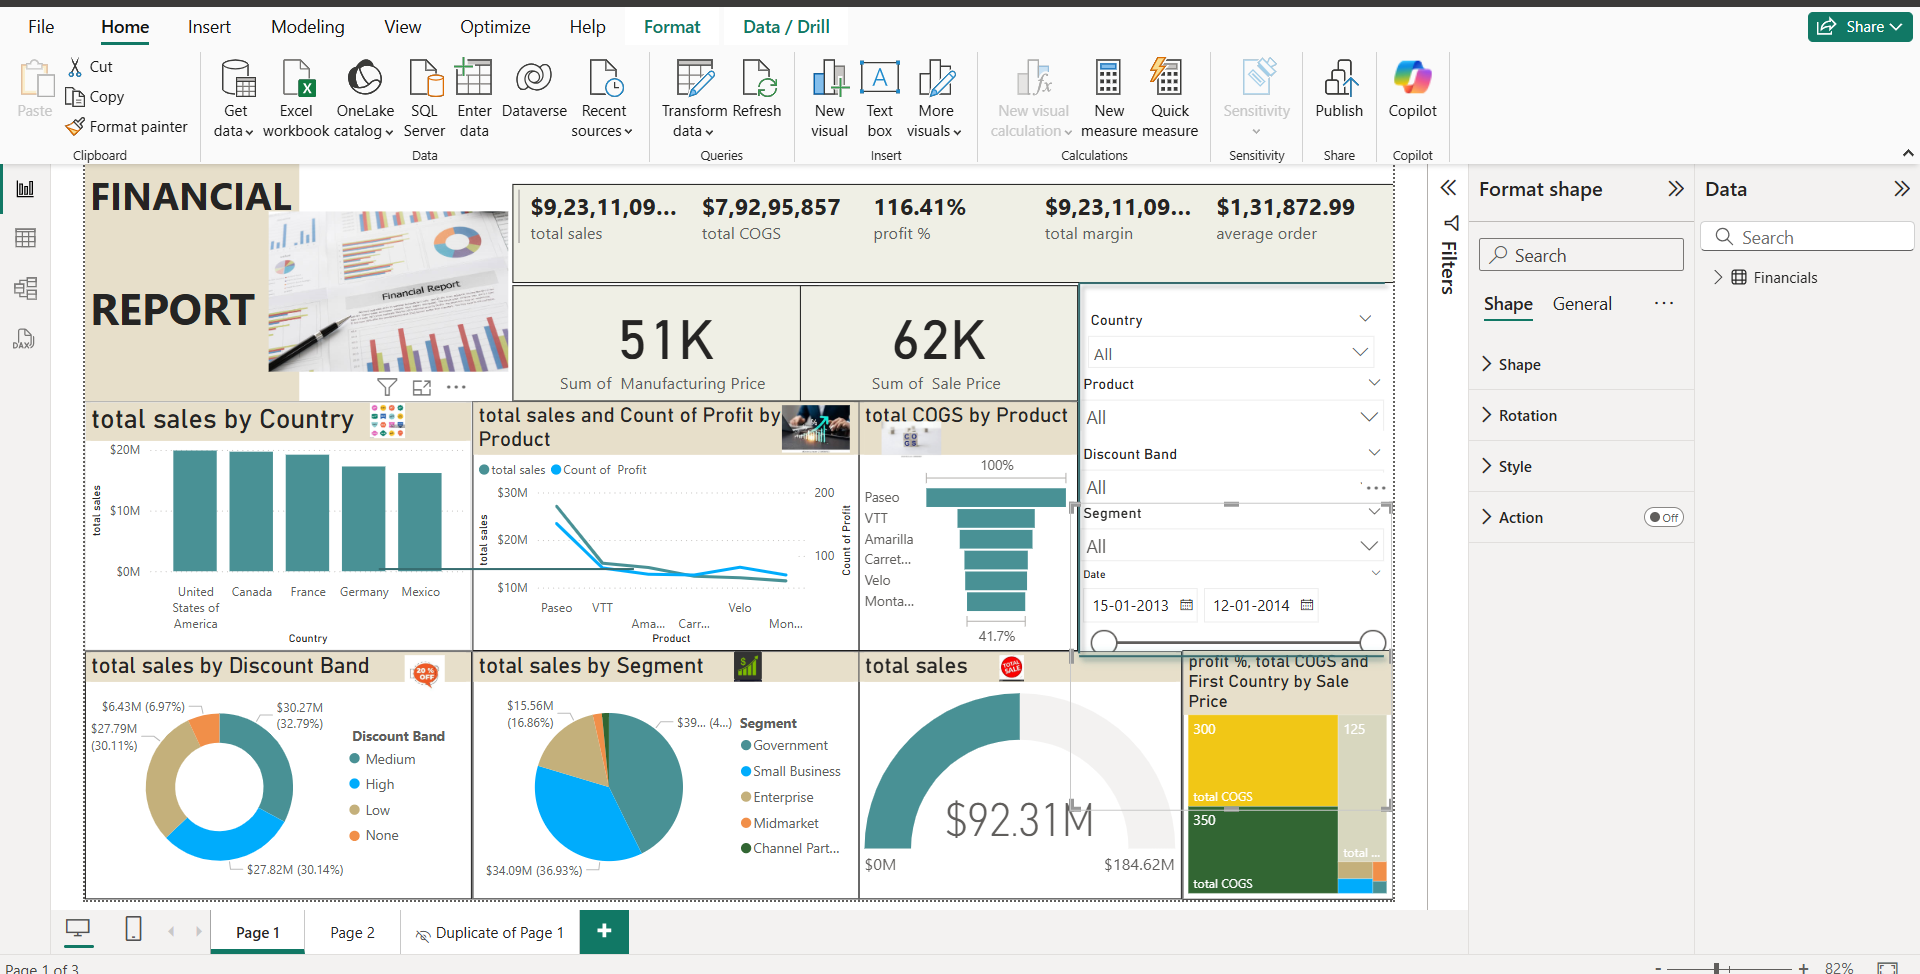

Layout of this report page (visuals, bound fields, positions):
{"tool":"powerbi","page":{"name":"Page 1","canvas":[1280,720],"ordinal":0},"visuals":[{"type":"columnChart","fields":{"Category":["Financials.Country"],"Y":["Financials.total sales"]},"box":[0,231.9,378.7,244.3],"z":0},{"type":"pieChart","fields":{"Y":["Financials.total sales"],"Category":["Financials.Segment"]},"box":[378.7,477.3,378.7,242],"z":1000},{"type":"donutChart","fields":{"Category":["Financials. Discount Band "],"Y":["Financials.total sales"]},"box":[0,477.3,378.7,242],"z":2000},{"type":"lineChart","fields":{"Category":["Financials. Product "],"Y":["Financials.total sales"],"Y2":["CountNonNull(Financials. Profit )"]},"box":[378.7,231.9,378.7,244.3],"z":3000},{"type":"multiRowCard","fields":{"Values":["Financials.total sales","Financials.total COGS","Financials.profit %","Financials.total margin","Financials.average order"]},"box":[418.5,19.2,861.8,97.4],"z":4000},{"type":"actionButton","box":[0,0,100,40],"z":5000},{"type":"slicer","fields":{"Values":["Financials.Country"]},"box":[971.5,140,300.5,61.7],"z":6000},{"type":"slicer","fields":{"Values":["Financials. Product "]},"box":[963.3,201.7,317,59],"z":7000},{"type":"slicer","fields":{"Values":["Financials.Date"]},"box":[963.3,389.7,317,97.4],"z":8000},{"type":"slicer","fields":{"Values":["Financials. Discount Band "]},"box":[963.3,270.3,317,60.4],"z":9000},{"type":"slicer","fields":{"Values":["Financials.Segment"]},"box":[963.3,328,317,61.7],"z":10000},{"type":"gauge","fields":{"Y":["Financials.total sales"]},"box":[757.4,477.3,316,242],"z":11000},{"type":"treemap","fields":{"Group":["Financials. Sale Price "],"Values":["Financials.profit %","Financials.total COGS"]},"box":[1073.4,475.1,206.2,244.3],"z":12000},{"type":"funnel","fields":{"Category":["Financials. Product "],"Y":["Financials.total COGS"]},"box":[757.5,231.9,214.1,244.3],"z":13000},{"type":"textbox","box":[0,0,209.9,231.9],"z":14000},{"type":"image","box":[174.3,20.6,244.3,207.2],"z":15000},{"type":"card","fields":{"Values":["Sum(Financials. Manufacturing Price )"]},"box":[418.5,118,299.1,113.9],"z":16000},{"type":"card","fields":{"Values":["Sum(Financials. Sale Price )"]},"box":[699.8,118,271.7,113.9],"z":17000},{"type":"shape","box":[963.6,331.7,316,300.3],"z":18000},{"type":"shape","box":[286.8,389.7,249.7,12.3],"z":19000},{"type":"shape","box":[823.3,107,299.1,380.1],"z":20000},{"type":"shape","box":[963.3,57.6,317,118],"z":21000}]}

Visuals, with their boxes on the page's 1280x720 design canvas (x1, y1, x2, y2). These are canvas units, not pixel positions in the 1920x974 screenshot, which may show the page scaled, cropped or inside an application window:
columnChart - Financials.Country x Financials.total sales: (0,232,379,476)
pieChart - Financials.total sales x Financials.Segment: (379,477,757,719)
donutChart - Financials. Discount Band  x Financials.total sales: (0,477,379,719)
lineChart - Financials. Product  x Financials.total sales: (379,232,757,476)
multiRowCard - Financials.total sales x Financials.total COGS: (418,19,1280,117)
actionButton: (0,0,100,40)
slicer - Financials.Country: (972,140,1272,202)
slicer - Financials. Product : (963,202,1280,261)
slicer - Financials.Date: (963,390,1280,487)
slicer - Financials. Discount Band : (963,270,1280,331)
slicer - Financials.Segment: (963,328,1280,390)
gauge - Financials.total sales: (757,477,1073,719)
treemap - Financials. Sale Price  x Financials.profit %: (1073,475,1280,719)
funnel - Financials. Product  x Financials.total COGS: (758,232,972,476)
textbox: (0,0,210,232)
image: (174,21,419,228)
card - Sum(Financials. Manufacturing Price ): (418,118,718,232)
card - Sum(Financials. Sale Price ): (700,118,972,232)
shape: (964,332,1280,632)
shape: (287,390,536,402)
shape: (823,107,1122,487)
shape: (963,58,1280,176)
